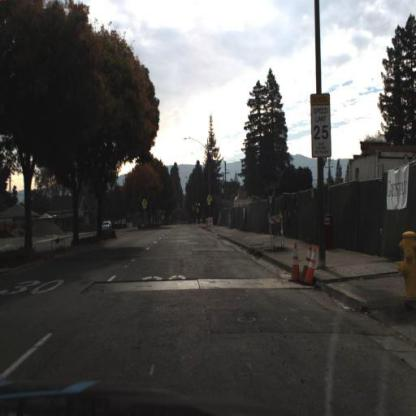car: (99, 218, 111, 229)
